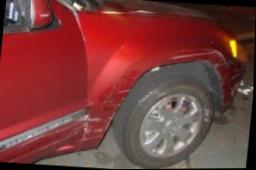Door: (0, 110, 85, 163)
Fender: (79, 47, 244, 150)
